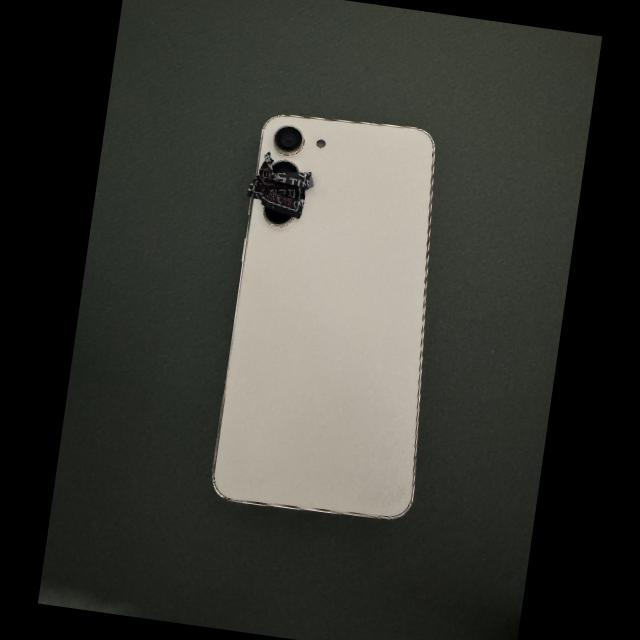lens: (273, 125, 304, 154), (264, 208, 294, 227), (273, 160, 298, 174)
phone: (213, 115, 435, 518)
sticker: (247, 152, 314, 219)
